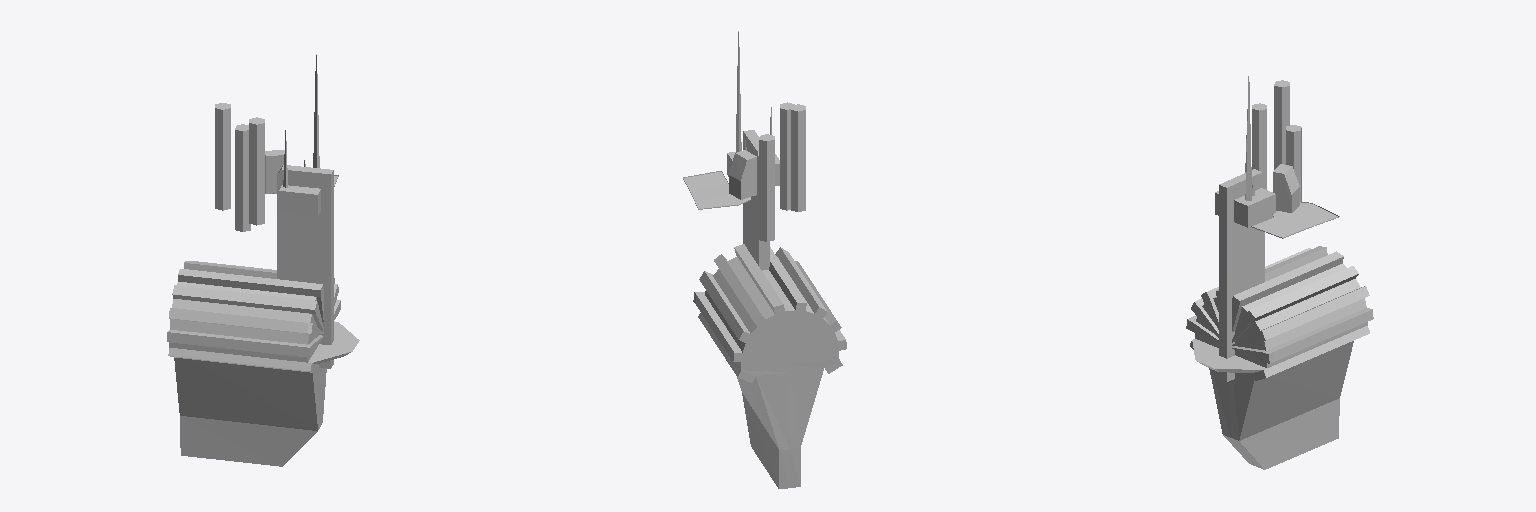
Rendered from TheRoots.obj.
The picture shows the model from 3 angles: view 1: azimuth 30°, elevation 25°; view 2: azimuth 150°, elevation 25°; view 3: azimuth 270°, elevation 25°; orthographic projection.
Visible parts, largest first — view 1: Scene; view 2: Scene; view 3: Scene.
Part boxes in pixels (bbox=[...]): Scene: bbox=[167, 54, 359, 466]; Scene: bbox=[683, 31, 846, 488]; Scene: bbox=[1186, 76, 1373, 469].
Size of the model in its own units: 1149 by 2642 by 1110.